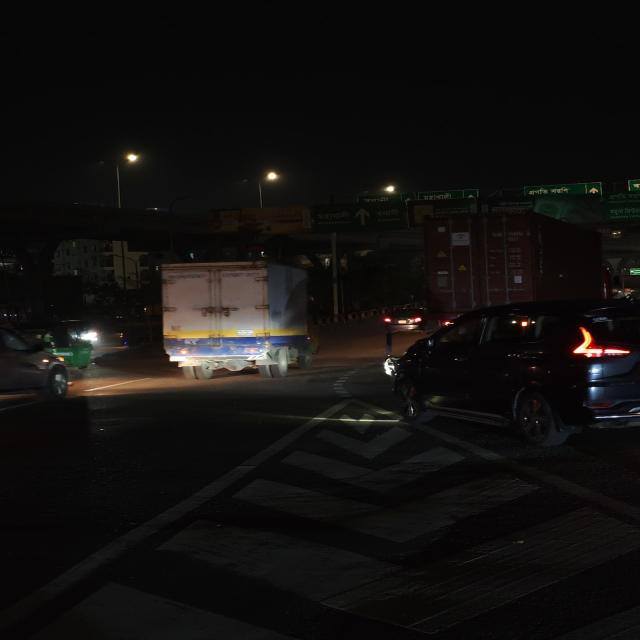car: (388, 299, 640, 449), (0, 317, 73, 411), (378, 303, 428, 334)
cng: (42, 320, 104, 368)
truck: (148, 258, 328, 381), (406, 207, 611, 305)
